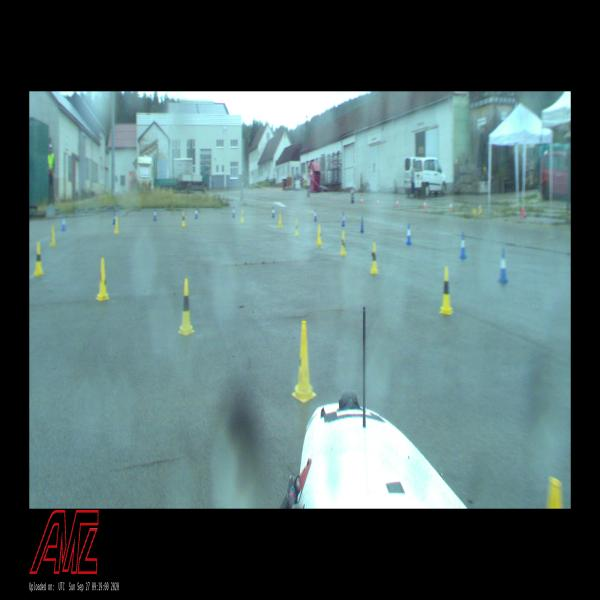blue_cone: (497, 250, 508, 284), (459, 234, 467, 258), (406, 224, 412, 245), (61, 214, 66, 231), (231, 204, 236, 217), (360, 216, 364, 232), (314, 208, 318, 221), (153, 208, 157, 221), (271, 204, 275, 217), (342, 214, 346, 226), (195, 207, 198, 218)
yellow_cone: (291, 321, 317, 403), (177, 279, 195, 335), (95, 258, 110, 300), (440, 266, 453, 314), (33, 243, 45, 275), (370, 243, 379, 273), (340, 231, 347, 256), (49, 225, 56, 247), (316, 225, 323, 245), (114, 216, 120, 234), (278, 213, 283, 228), (181, 211, 186, 226), (295, 219, 299, 236), (241, 209, 244, 222)
